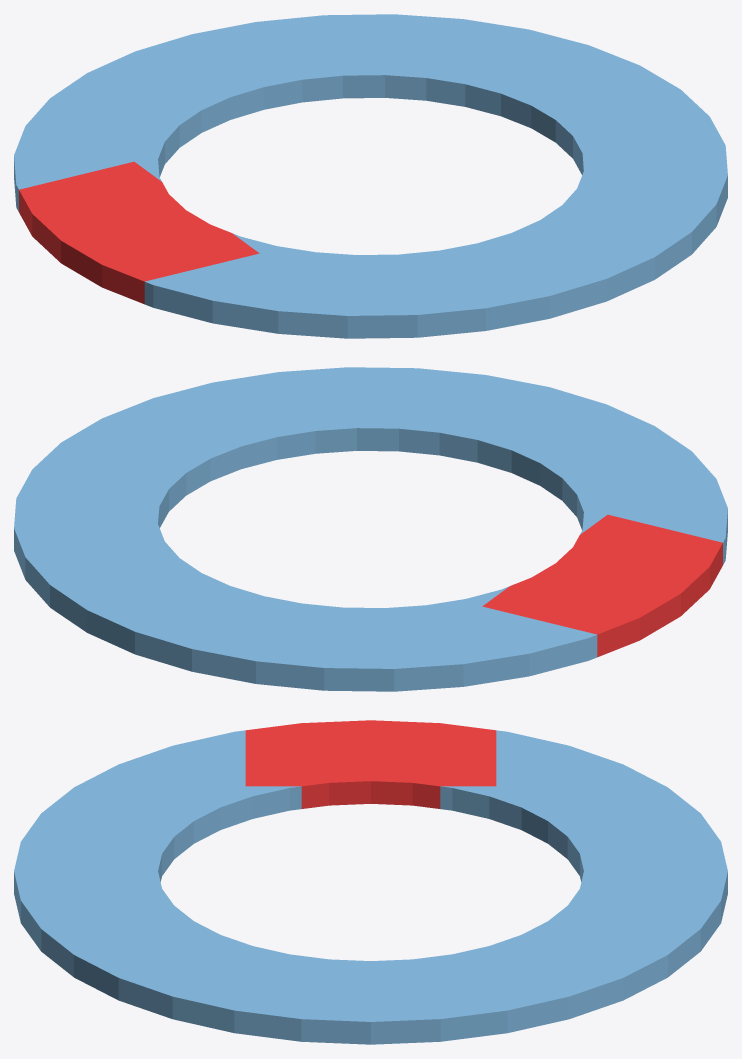
Rendered from lid-column-uses-own-bore-radius-self-tapping.actual.glb.
The picture shows the model from 3 angles, top to bottom: view 1: azimuth 30°, elevation 25°; view 2: azimuth 150°, elevation 25°; view 3: azimuth 270°, elevation 25°; orthographic projection.
Parts seen in each view (by area): view 1: lid-column, intersection-highlight; view 2: lid-column, intersection-highlight; view 3: lid-column, intersection-highlight.
Boxes of the visible parts, box(x1,y1,x2,y2) form: lid-column: box(14, 14, 727, 338); intersection-highlight: box(19, 161, 259, 304); lid-column: box(14, 367, 727, 691); intersection-highlight: box(482, 514, 722, 657); lid-column: box(14, 730, 727, 1044); intersection-highlight: box(245, 720, 496, 808).
Bounding box in the file's own units: 5.7 × 0.2 × 5.7.
